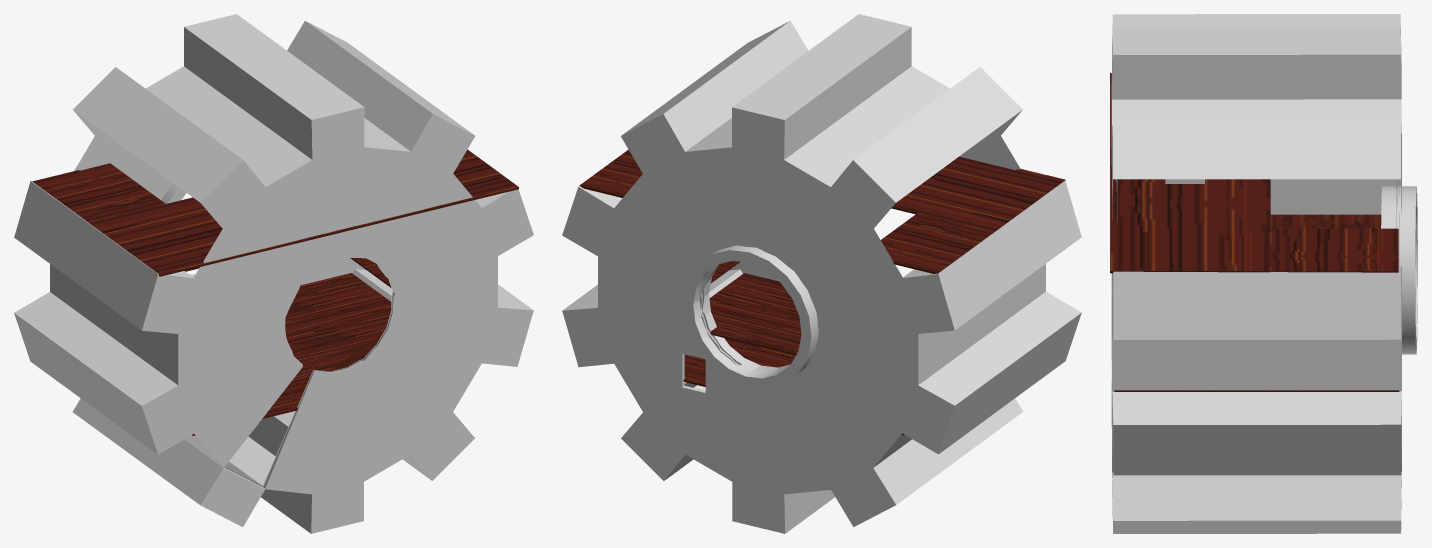
File: GearbarShell.fbx
3 renders of one model, left to right at view 1: azimuth 30°, elevation 25°; view 2: azimuth 150°, elevation 25°; view 3: azimuth 270°, elevation 25°, orthographic. The views are drawn at different scales.
Parts seen in each view (by area): view 1: polySurface110, polySurface109, floor; view 2: polySurface110, polySurface109, window_frame, floor, pCube360; view 3: polySurface110, polySurface109, window_frame, pCube360.
Part boxes in pixels (x1=…): polySurface110: x1=14, y1=14, x2=533, y2=533; polySurface109: x1=32, y1=149, x2=518, y2=276; floor: x1=192, y1=273, x2=391, y2=435; polySurface110: x1=562, y1=14, x2=1081, y2=533; polySurface109: x1=579, y1=149, x2=1065, y2=273; window_frame: x1=683, y1=245, x2=818, y2=389; floor: x1=683, y1=273, x2=904, y2=435; pCube360: x1=710, y1=261, x2=799, y2=355; polySurface110: x1=1111, y1=14, x2=1402, y2=533; polySurface109: x1=1110, y1=73, x2=1398, y2=273; window_frame: x1=1381, y1=186, x2=1417, y2=354; pCube360: x1=1114, y1=214, x2=1399, y2=391.
Bounding box in the file's own units: 493 × 497 × 296.
